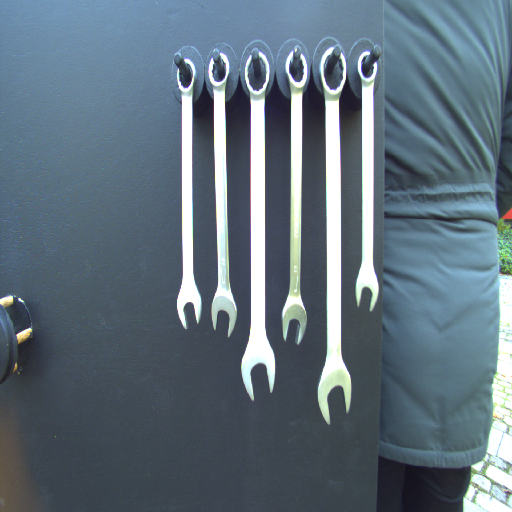bottom: (315, 359, 354, 427), (240, 337, 278, 405), (210, 289, 239, 341), (174, 282, 204, 332), (280, 295, 307, 348), (354, 268, 380, 315)
top: (319, 45, 349, 103), (241, 47, 274, 98), (283, 46, 311, 97), (174, 54, 199, 98), (356, 48, 381, 89), (207, 49, 230, 91)
